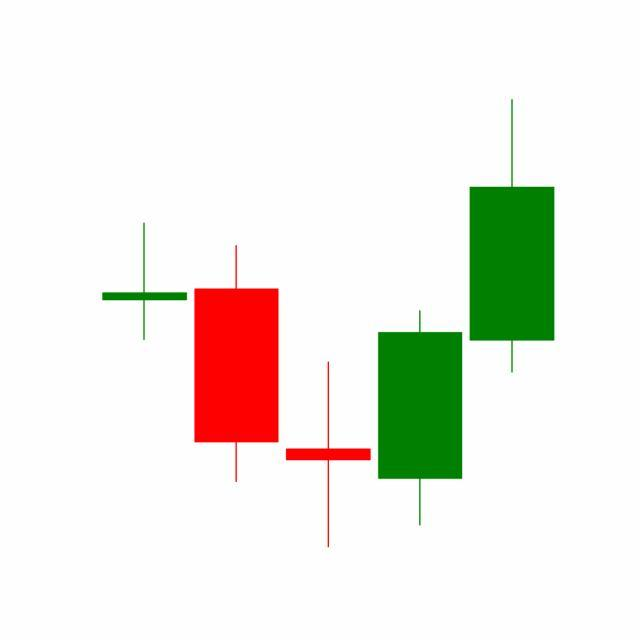Morning Doji Star: (190, 241, 467, 549)
